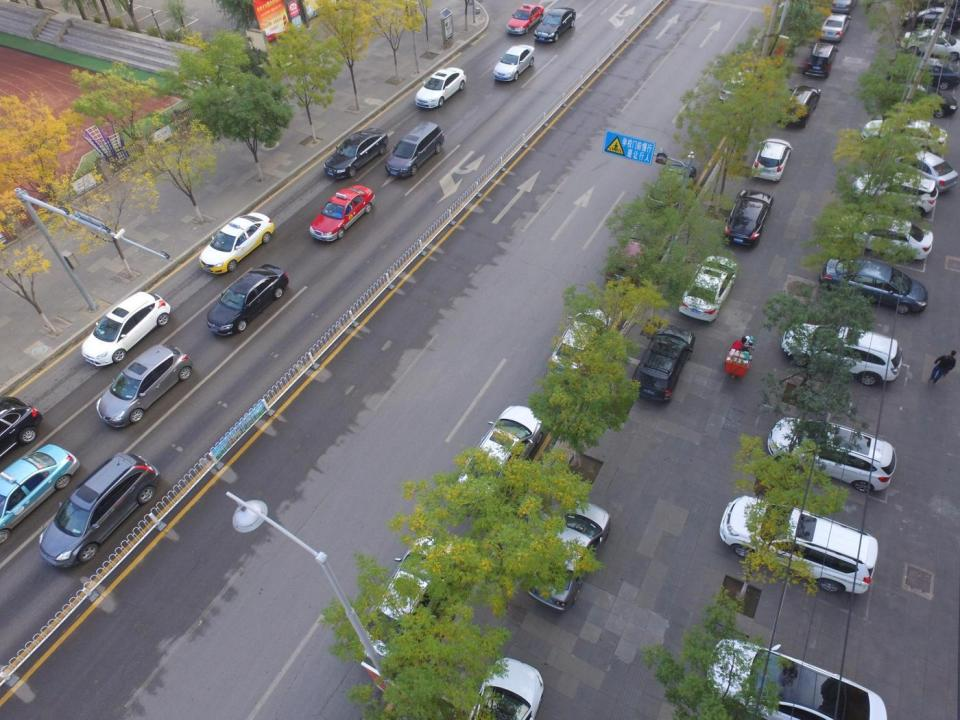car: (699, 639, 888, 720), (38, 454, 161, 569), (357, 536, 462, 658), (452, 405, 543, 519), (765, 418, 896, 490), (530, 500, 610, 609), (778, 322, 905, 387), (0, 444, 80, 545), (96, 344, 192, 428), (80, 293, 170, 368), (209, 265, 288, 341), (821, 258, 926, 312), (463, 658, 548, 719), (630, 325, 694, 403), (834, 213, 930, 264), (200, 211, 274, 276), (550, 306, 610, 381), (855, 169, 940, 217), (310, 184, 376, 245), (679, 255, 738, 322), (872, 83, 957, 126), (862, 113, 946, 156), (382, 120, 446, 176), (879, 148, 955, 192), (324, 127, 387, 180), (722, 190, 774, 250), (0, 395, 43, 466), (607, 234, 655, 294), (651, 160, 696, 216), (887, 54, 960, 87), (416, 67, 466, 109), (774, 85, 820, 129), (720, 65, 760, 114), (900, 3, 960, 35), (900, 26, 960, 57), (750, 138, 790, 182), (493, 43, 535, 83), (535, 6, 577, 41), (801, 43, 838, 78), (506, 5, 544, 37), (819, 12, 851, 40)
van: (720, 498, 877, 596)
